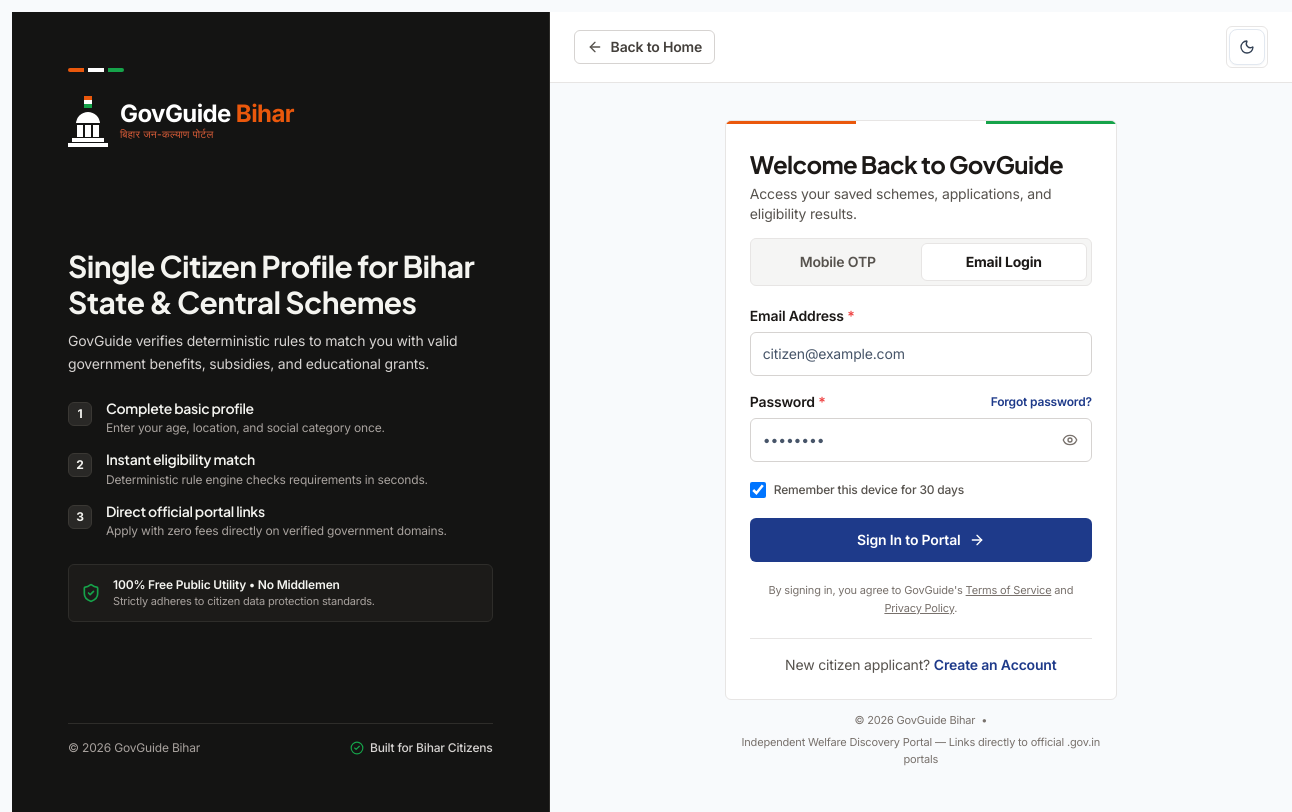
Scenario: Key Application Pages › LoginPage authenticates valid credentials and navigates to /profile
In the field labelled "Email Address *": [921, 354] box [750,332,1092,376], type "ravi@example.com"
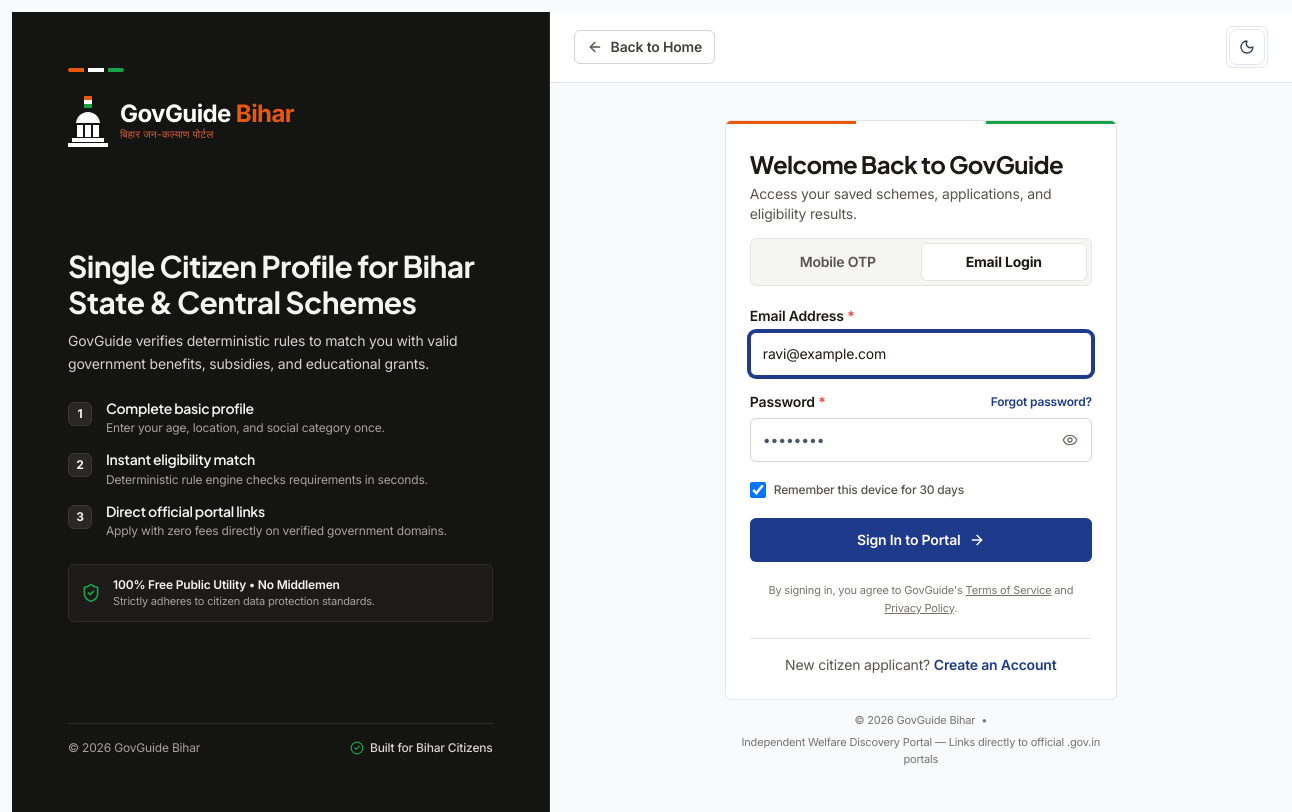
In the password field labelled "Password *": [921, 440] box [750,418,1092,462], type "Password123!"
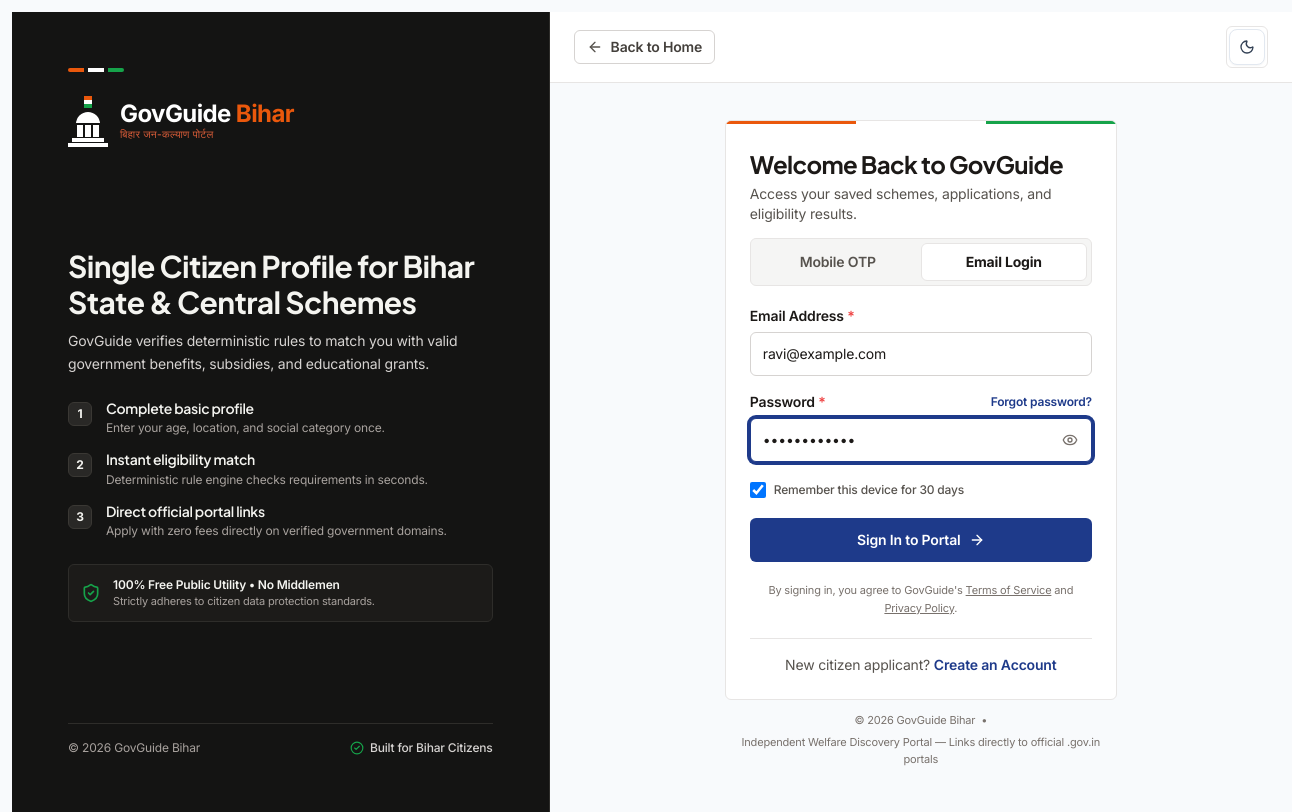
Click the button "Sign In to Portal": [921, 540] box [750,518,1092,562]
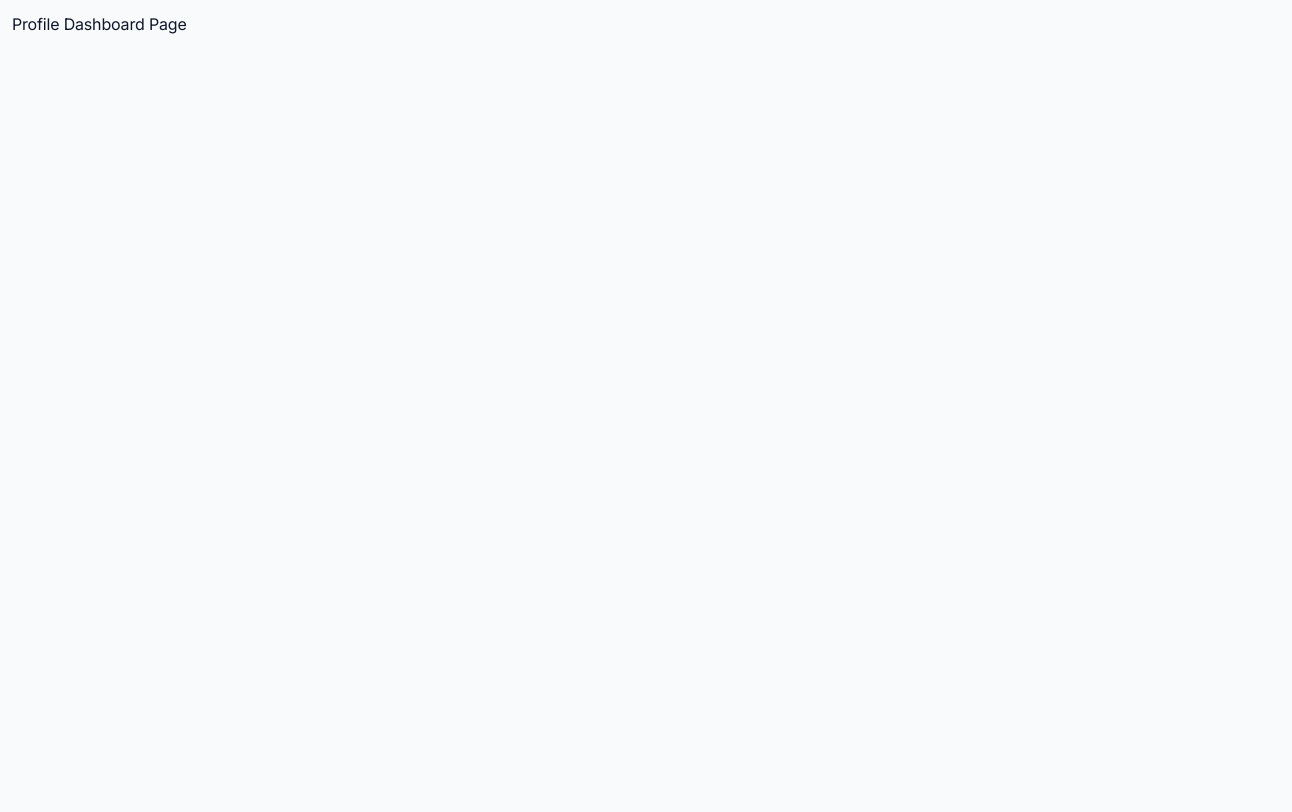
Result: the text "Profile Dashboard Page" is shown at [12,14,187,34]
